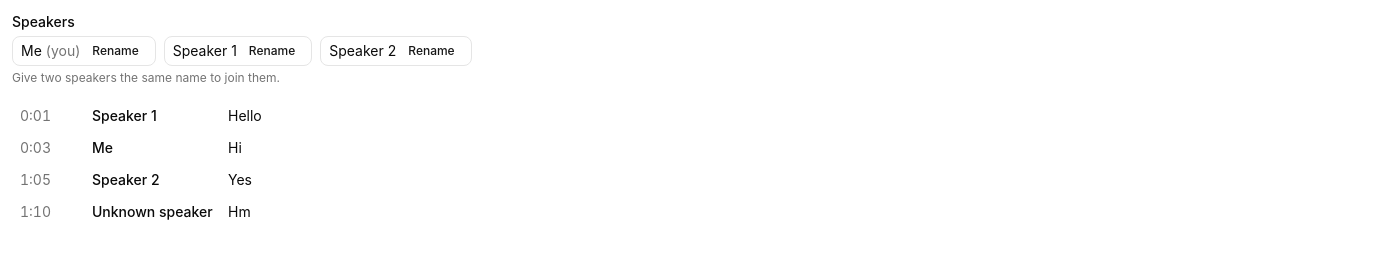
TranscriptView (FR-3.1, FR-3.3, FR-3.8) › shows why a line cannot play
This screenshot has width=1390, height=273.
Click the button "0:01 Speaker 1 Hello" at (36, 116), box left=12, top=102, right=1378, bottom=130
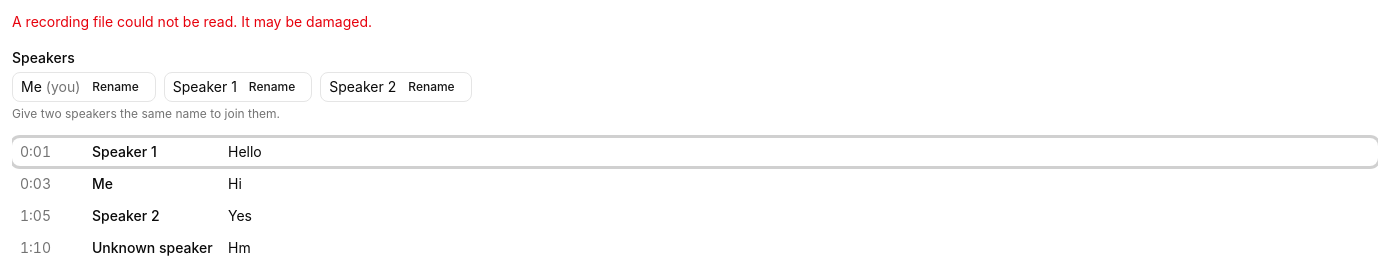
Expected: the message shows "It may be damaged.", left=12, top=13, right=372, bottom=30
